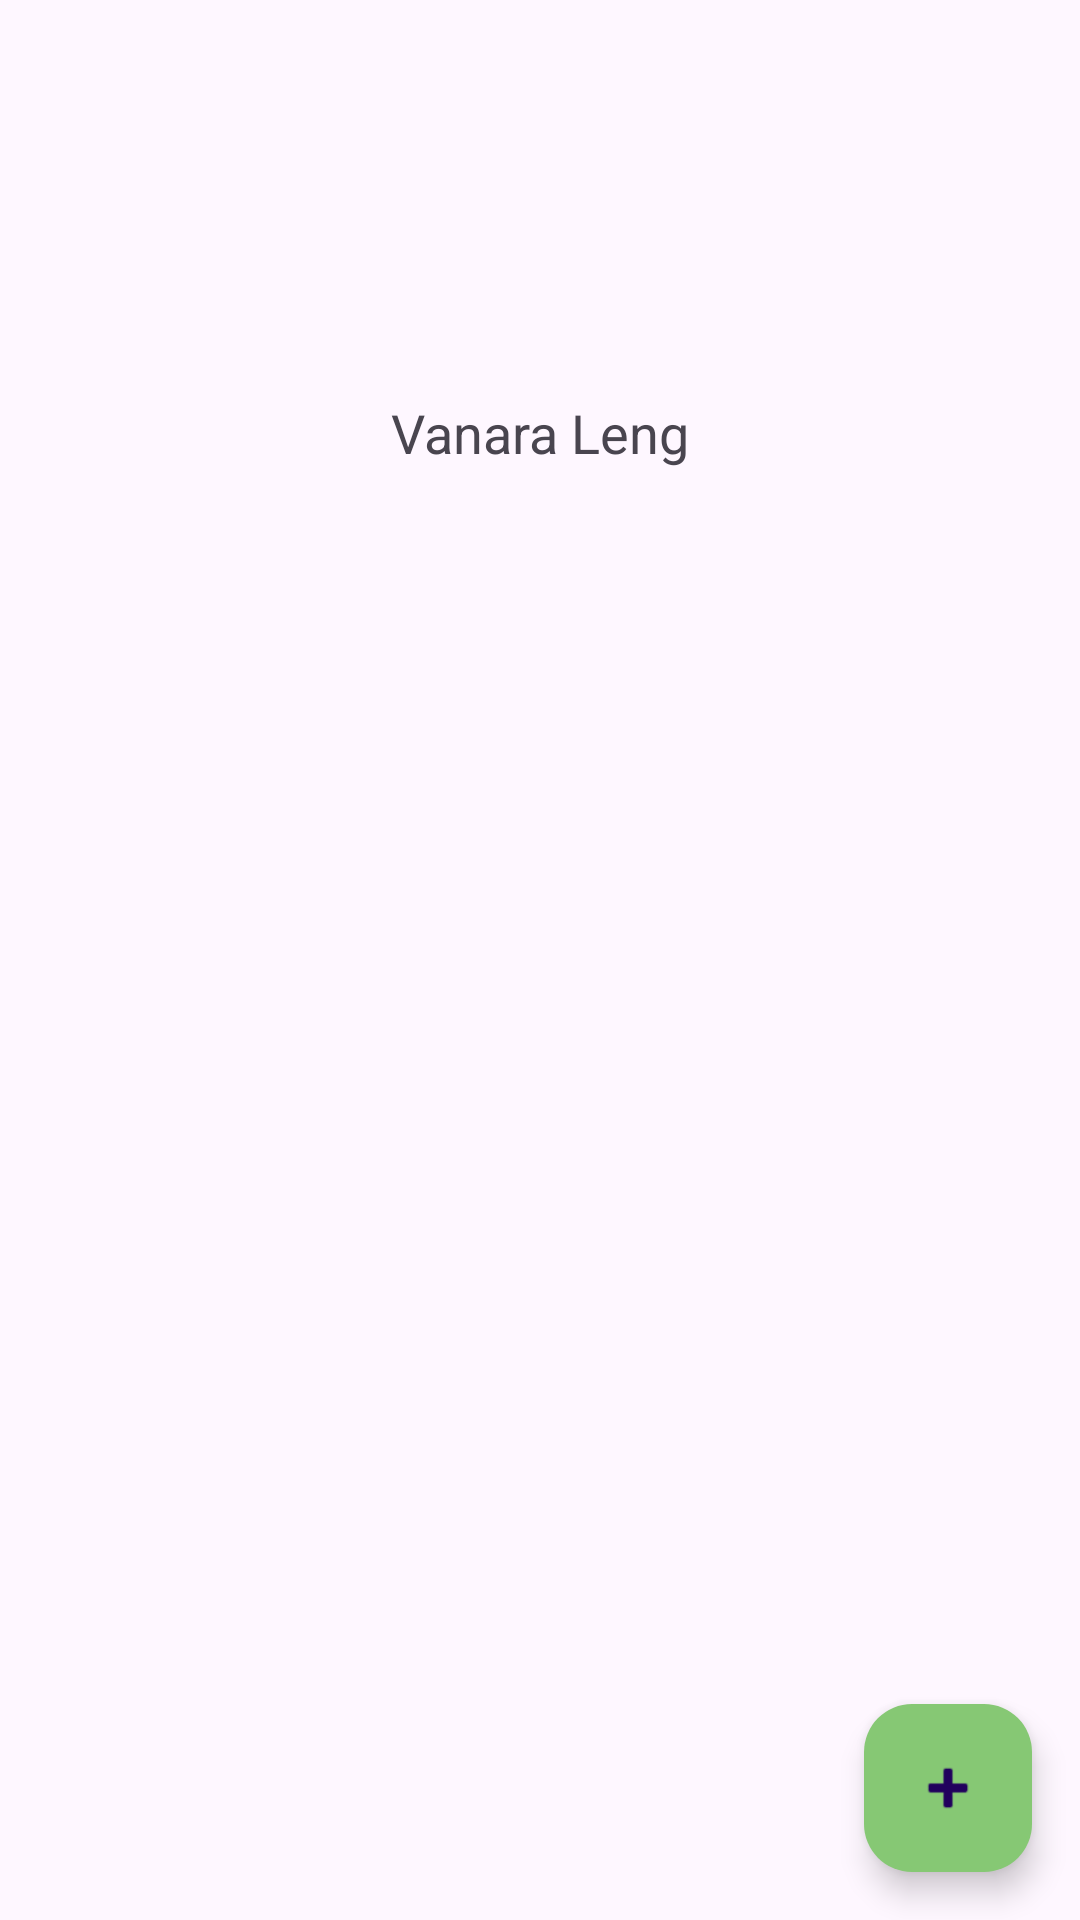

Icon bounding boxes for this 1080x1920 phone screenshot, format [x1,y1,x2,y2]:
Add Recipe: [864,1704,1032,1872]
